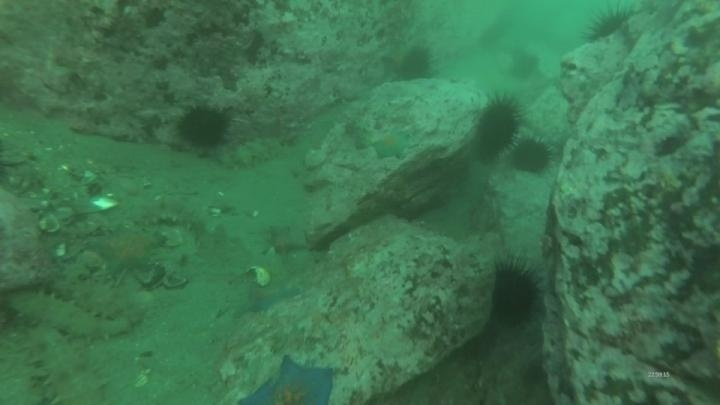echinus: (488, 259, 543, 328), (472, 94, 523, 160), (175, 102, 233, 151), (582, 3, 636, 46), (509, 135, 553, 176), (396, 44, 436, 83)
holothurian: (8, 287, 131, 346), (20, 327, 111, 404), (61, 275, 139, 324), (217, 132, 298, 172), (131, 198, 206, 233)
starfish: (238, 355, 339, 404), (85, 224, 166, 279), (235, 280, 302, 317), (262, 222, 308, 259), (369, 128, 414, 161), (379, 39, 412, 78)
